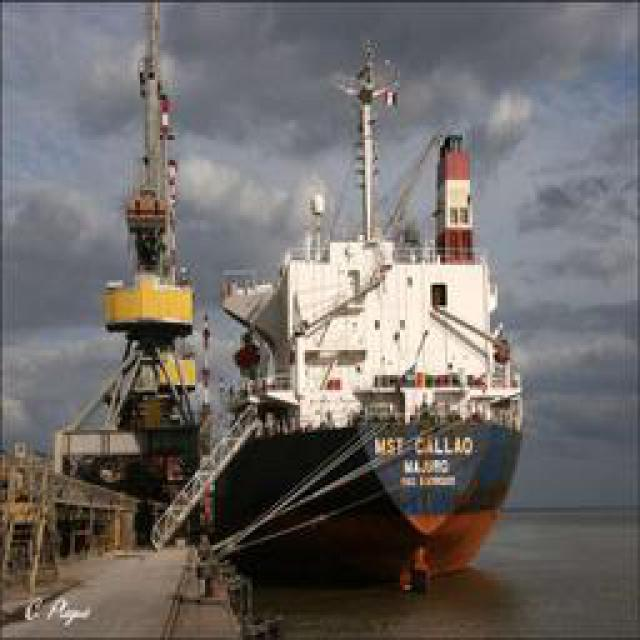Ship: (178, 82, 516, 585)
